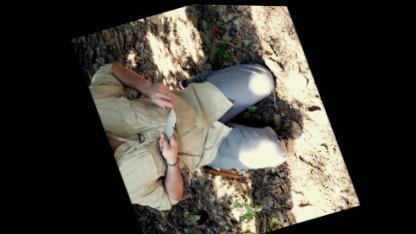knife: (144, 105, 191, 164)
